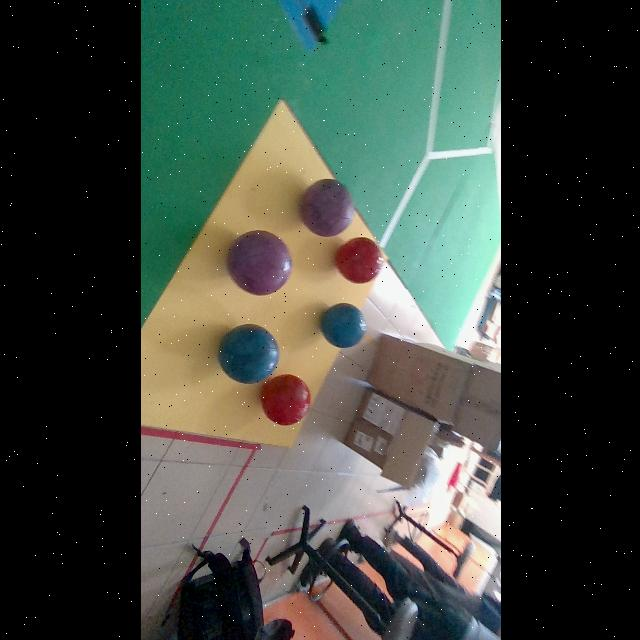B: (218, 324, 278, 384), (319, 303, 365, 348)
P: (227, 231, 291, 295), (299, 179, 353, 236)
R: (260, 375, 309, 425), (335, 238, 383, 283)
